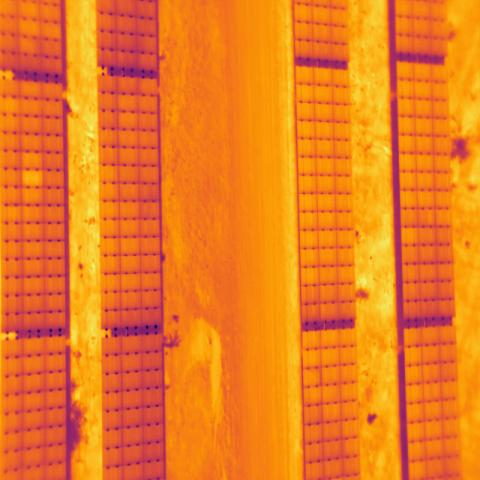fault: (22, 168, 43, 188)
